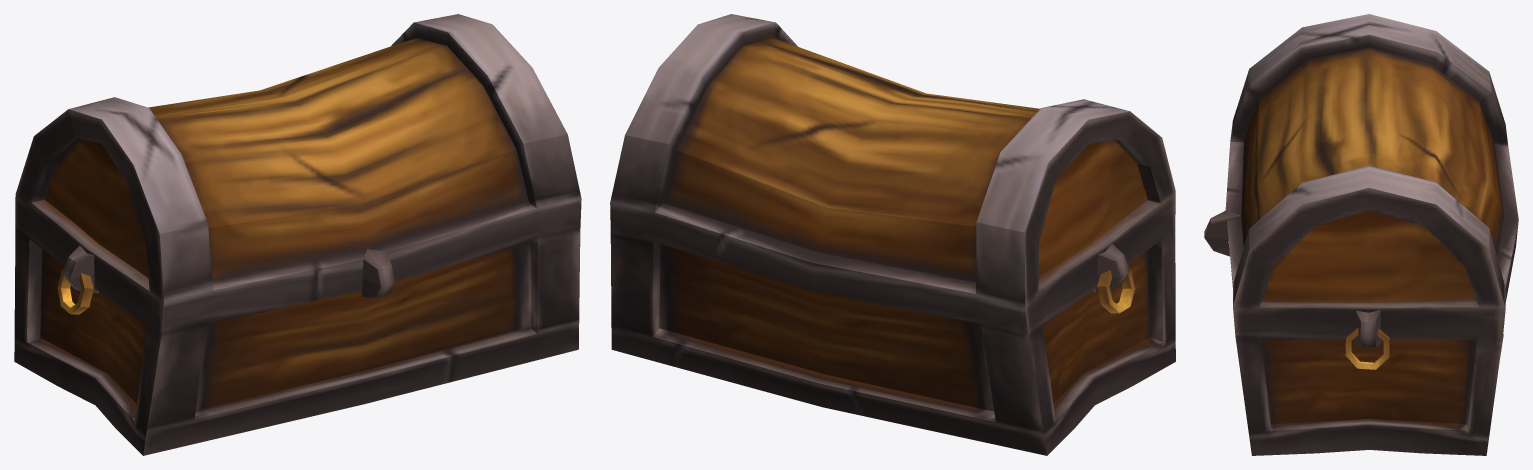
File: cheast_2.fbx
3 renders of one model, left to right at view 1: azimuth 30°, elevation 25°; view 2: azimuth 150°, elevation 25°; view 3: azimuth 270°, elevation 25°, orthographic. The views are drawn at different scales.
Visible parts, largest first — view 1: cheast_2; view 2: cheast_2; view 3: cheast_2.
Boxes of the visible parts, left/top/right/bottom form: cheast_2: left=14, top=14, right=581, bottom=455; cheast_2: left=610, top=14, right=1175, bottom=455; cheast_2: left=1204, top=14, right=1518, bottom=455.
Size of the model in its own units: 1.8 by 1.06 by 1.16.
